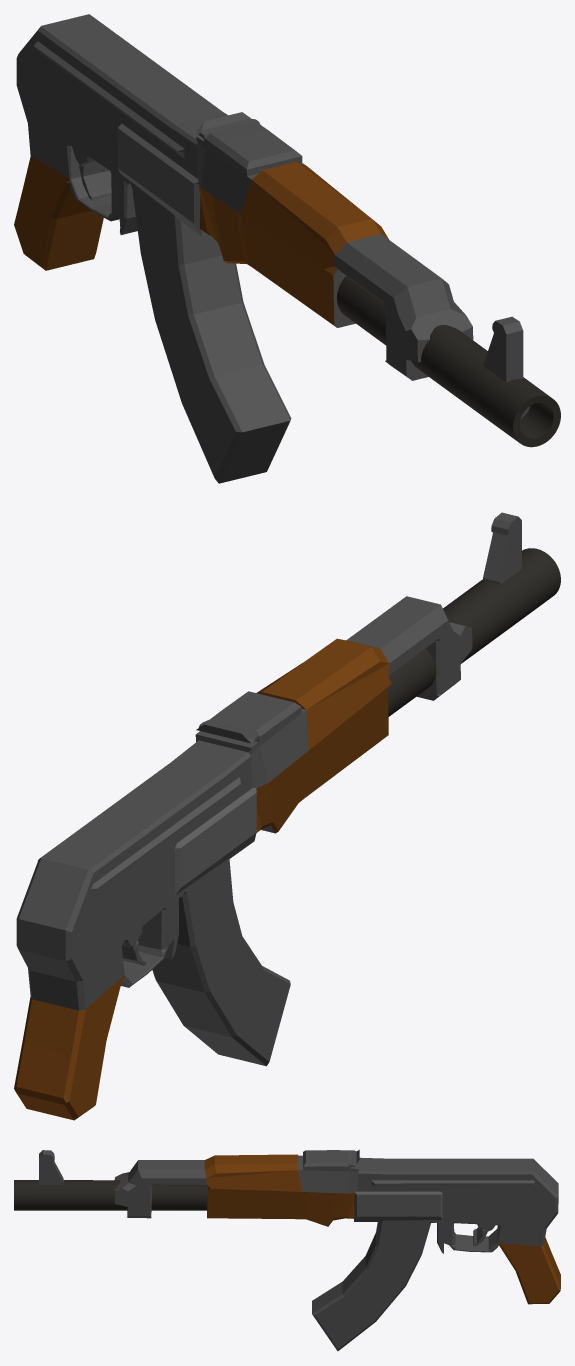
File: mini 47.fbx
3 views of the same model, one above another, from view 1: azimuth 30°, elevation 25°; view 2: azimuth 150°, elevation 25°; view 3: azimuth 270°, elevation 25° (orthographic). The views are drawn at different scales.
Visible parts, largest first — view 1: Cube, Circle, Cube.002, Cube.001; view 2: Cube, Circle, Cube.002, Cube.001; view 3: Cube, Circle, Cube.002, Cube.001.
Boxes of the visible parts, x1=… form: Cube: x1=14, y1=14, x2=530, y2=483; Circle: x1=337, y1=276, x2=560, y2=447; Cube.002: x1=117, y1=123, x2=207, y2=236; Cube.001: x1=33, y1=41, x2=184, y2=157; Cube: x1=14, y1=512, x2=521, y2=1120; Circle: x1=388, y1=548, x2=560, y2=716; Cube.002: x1=174, y1=787, x2=256, y2=895; Cube.001: x1=91, y1=777, x2=240, y2=893; Cube: x1=39, y1=1149, x2=560, y2=1351; Circle: x1=14, y1=1180, x2=207, y2=1210; Cube.002: x1=354, y1=1191, x2=442, y2=1221; Cube.001: x1=371, y1=1180, x2=534, y2=1185.
Size of the model in its own units: 27.11 by 132 by 341.
